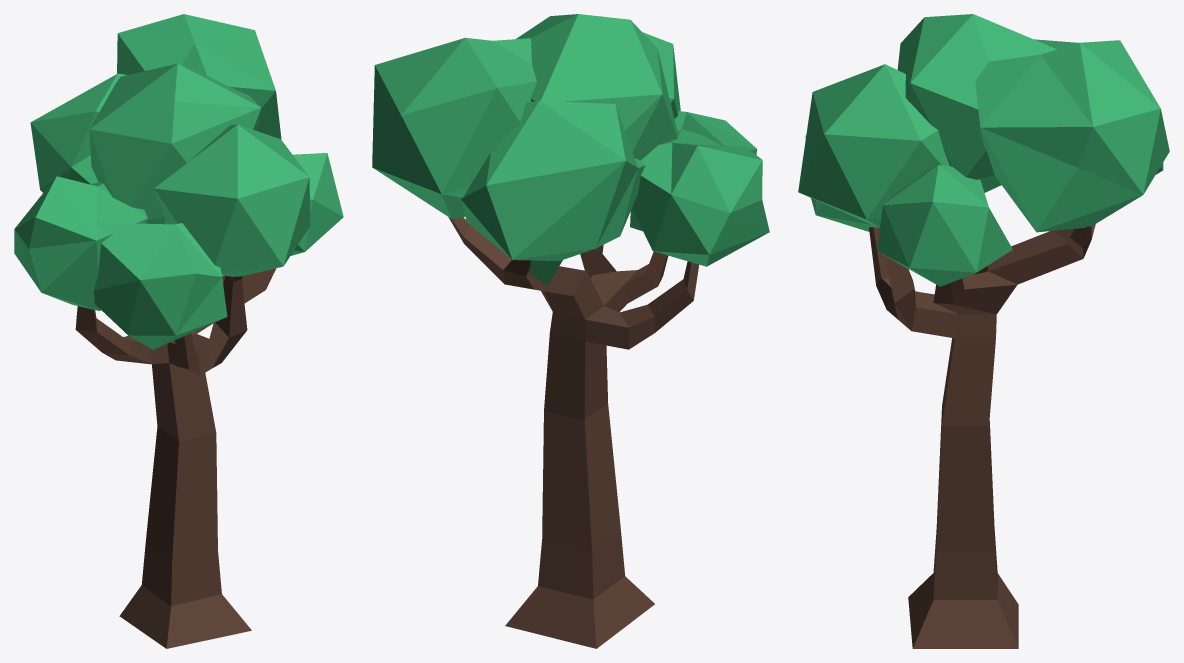
File: low-poly-tree-5.glb
3 views of the same model, side by side, from view 1: azimuth 30°, elevation 25°; view 2: azimuth 150°, elevation 25°; view 3: azimuth 270°, elevation 25° (orthographic). The views are drawn at different scales.
Visible parts, largest first — view 1: low-poly-tree-5; view 2: low-poly-tree-5; view 3: low-poly-tree-5.
Boxes of the visible parts, x1=… form: low-poly-tree-5: x1=14, y1=14, x2=343, y2=648; low-poly-tree-5: x1=372, y1=14, x2=769, y2=648; low-poly-tree-5: x1=798, y1=14, x2=1169, y2=648.
Bounding box in the file's own units: 2.72 × 4.92 × 2.71.
